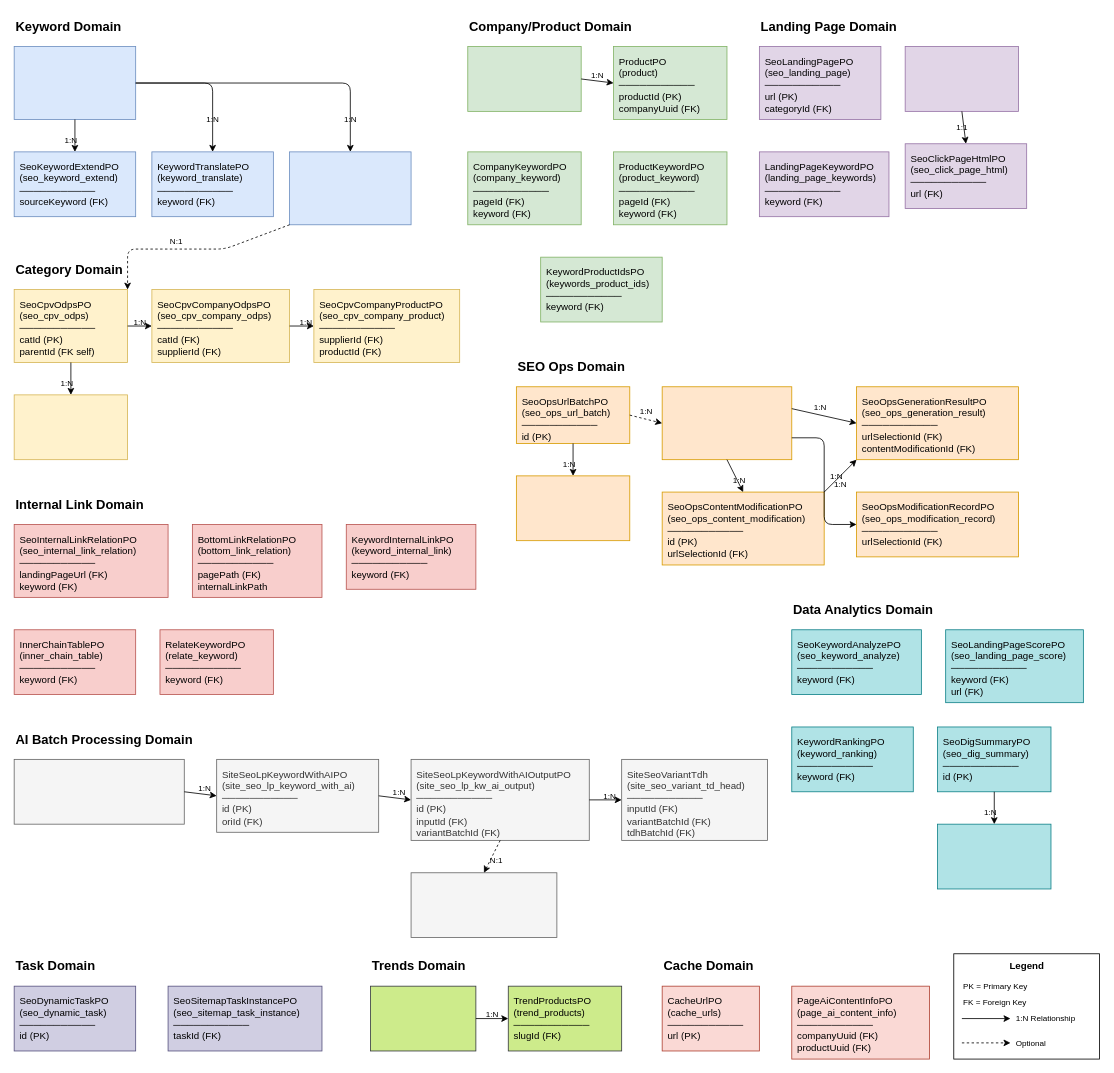
The diagram is 1114 pixels wide and 1073 high, and some of its shapes have lost their labels. Each missing label, with the centre of its shape:
CategoryLangPO (category_lang) ─────────── categoryId (FK): (70,427)
CompanyPO (company) ─────────── companyUuid (PK): (524,78)
KeywordSlug (keyword_slug) ─────────── id (PK): (423,1018)
SeoClickPagePO (seo_click_page) ─────────── url (FK): (961,78)
SeoDigUrlPO (seo_dig_url) ─────────── summaryId (FK): (994,856)
SeoKeywordCpvPO (seo_keyword_cpv) ─────────── keyword (FK) cateId (FK): (350,188)
SeoKeywordPO (seo_keyword) ─────────── keyword (PK) taskName: (74,82)
SeoOpsUrlSelectionPO (seo_ops_url_selection) ─────────── id (PK) urlBatchId (FK): (726,423)
SeoOpsUrlUploadPO (seo_ops_url_upload) ─────────── urlBatchId (FK): (573,508)
SiteSeoLpBatchTaskPO (site_seo_lp_batch_task) ─────────── batchId (PK): (483,905)
SiteSeoLpExtractedKeywordDfPO (site_seo_lp_extracted_kw) ─────────── id (PK): (98,791)
